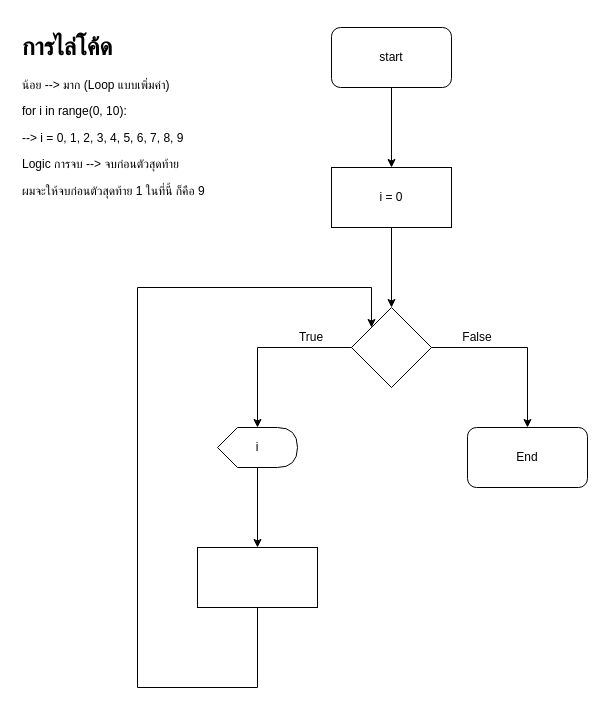
Image size: 605x713. Some labels were removed from this diagram. The centre of each missing label's shape, as x and y in pixels:
i += 1: the point at 257,577
i <= 9: the point at 391,347
